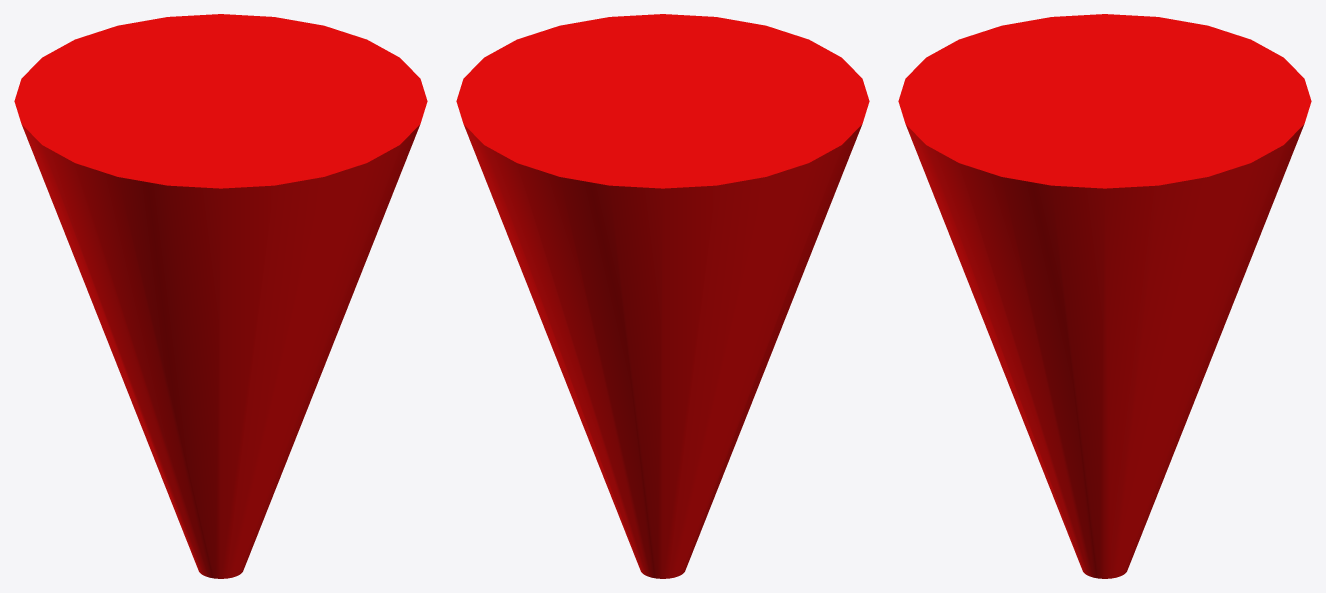
The model's file is POINT.dae.
3 views of the same model, side by side, from view 1: azimuth 30°, elevation 25°; view 2: azimuth 150°, elevation 25°; view 3: azimuth 270°, elevation 25° (orthographic).
Visible parts, largest first — view 1: SketchUp; view 2: SketchUp; view 3: SketchUp.
Boxes of the visible parts, left/top/right/bottom form: SketchUp: left=14, top=14, right=427, bottom=578; SketchUp: left=456, top=14, right=869, bottom=578; SketchUp: left=898, top=14, right=1311, bottom=578.
Size of the model in its own units: 157 by 157 by 197.
